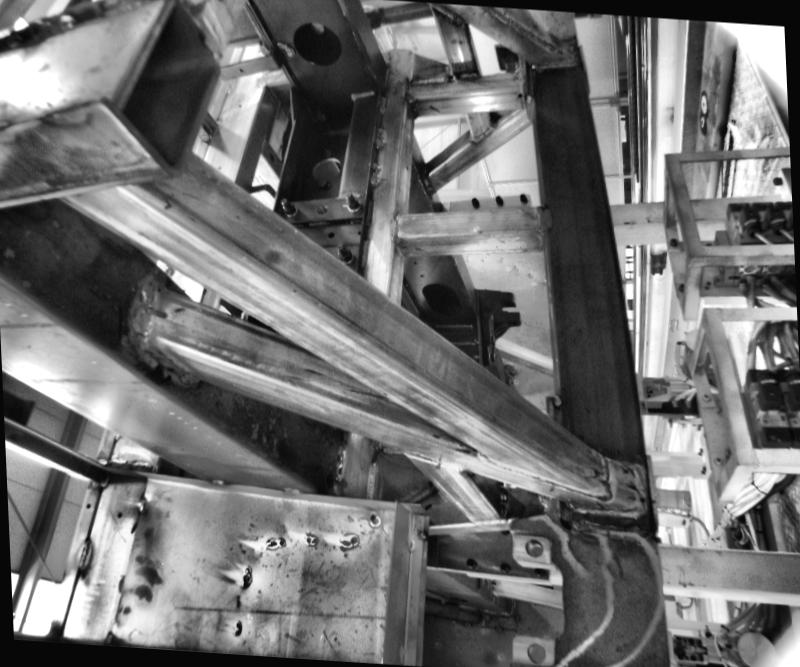bolt: (336, 242, 356, 264), (343, 190, 362, 212), (282, 194, 301, 216)
bracket: (473, 282, 525, 374)
hole: (291, 19, 339, 68), (422, 280, 466, 318), (311, 156, 343, 182), (526, 642, 548, 662), (150, 304, 172, 322), (522, 537, 544, 555), (314, 200, 330, 214), (327, 230, 335, 240), (117, 511, 125, 521), (87, 501, 93, 511), (399, 243, 408, 249), (404, 165, 411, 171)
welding: (142, 282, 170, 351), (570, 507, 658, 522), (77, 536, 95, 574), (642, 467, 654, 522), (607, 452, 617, 506), (540, 206, 556, 234), (208, 477, 230, 491), (372, 160, 384, 184), (392, 212, 400, 242), (376, 126, 388, 146), (282, 487, 306, 496), (140, 499, 148, 511)
